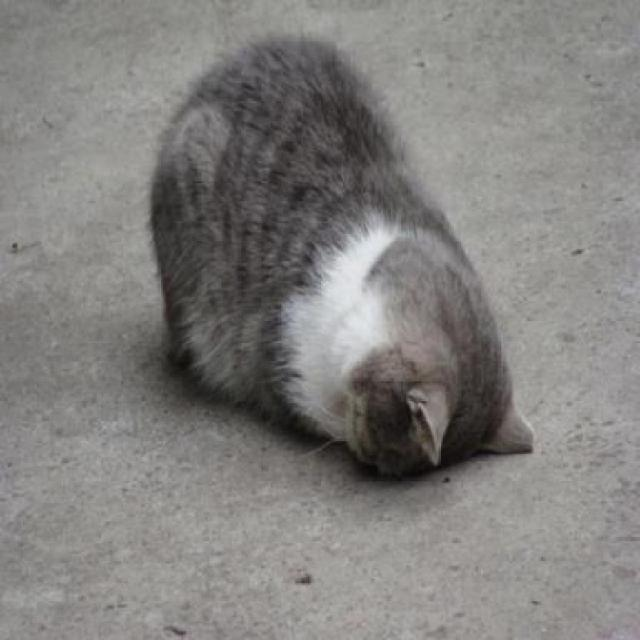cat: (130, 30, 533, 484)
